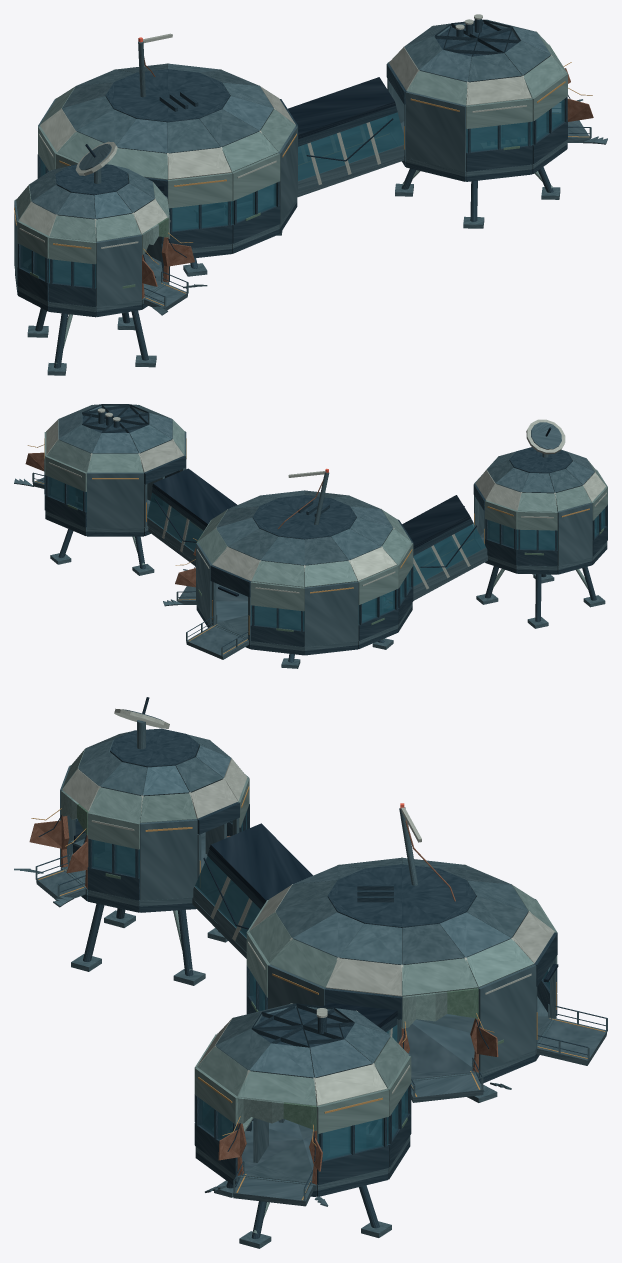
The model's file is Observatorio_Marea_Rota.fbx.
The picture shows the model from 3 angles, top to bottom: view 1: azimuth 30°, elevation 25°; view 2: azimuth 150°, elevation 25°; view 3: azimuth 270°, elevation 25°; orthographic projection. The views are drawn at different scales.
Visible parts, largest first — view 1: Núcleo.001, Laboratorio.001, Observatorio.001, Conector · Laboratorio.001, Observatorio · Exterior.001, Observatorio · Brecha.001, Laboratorio · Exterior.001, Núcleo · Exterior.001, Laboratorio · Brecha.001, Laboratorio · Habitaciones.001; view 2: Núcleo.001, Laboratorio.001, Observatorio.001, Conector · Observatorio.001, Conector · Laboratorio.001, Observatorio · Exterior.001, Núcleo · Exterior.001, Laboratorio · Exterior.001, Núcleo · Brecha.001, Laboratorio · Brecha.001, Laboratorio · Habitaciones.001; view 3: Núcleo.001, Laboratorio.001, Observatorio.001, Conector · Observatorio.001, Laboratorio · Brecha.001, Núcleo · Brecha.001, Observatorio · Brecha.001, Observatorio · Exterior.001, Laboratorio · Exterior.001, Núcleo · Exterior.001, Laboratorio · Habitaciones.001, Conector · Laboratorio.001 (+1 smaller).
Part boxes in pixels (box(x1,y1,x2,y2)): Núcleo.001: box(37, 63, 298, 258); Laboratorio.001: box(386, 19, 567, 181); Observatorio.001: box(14, 164, 170, 317); Conector · Laboratorio.001: box(288, 77, 404, 196); Observatorio · Exterior.001: box(27, 141, 156, 375); Observatorio · Brecha.001: box(141, 218, 207, 315); Laboratorio · Exterior.001: box(395, 14, 560, 228); Núcleo · Exterior.001: box(138, 33, 282, 276); Laboratorio · Brecha.001: box(550, 46, 607, 144); Laboratorio · Habitaciones.001: box(480, 119, 537, 148); Núcleo.001: box(186, 490, 413, 659); Laboratorio.001: box(44, 404, 186, 536); Observatorio.001: box(473, 447, 607, 574); Conector · Observatorio.001: box(402, 495, 487, 600); Conector · Laboratorio.001: box(147, 468, 236, 565); Observatorio · Exterior.001: box(476, 419, 605, 628); Núcleo · Exterior.001: box(278, 468, 393, 668); Laboratorio · Exterior.001: box(50, 408, 154, 575); Núcleo · Brecha.001: box(163, 520, 211, 606); Laboratorio · Brecha.001: box(14, 431, 56, 488); Laboratorio · Habitaciones.001: box(63, 476, 164, 507); Núcleo.001: box(246, 857, 607, 1083); Laboratorio.001: box(194, 1003, 411, 1196); Observatorio.001: box(60, 728, 249, 912); Conector · Observatorio.001: box(192, 823, 312, 958); Laboratorio · Brecha.001: box(205, 1097, 328, 1206); Núcleo · Brecha.001: box(398, 988, 511, 1102); Observatorio · Brecha.001: box(14, 790, 88, 907); Observatorio · Exterior.001: box(71, 697, 227, 985); Laboratorio · Exterior.001: box(214, 1008, 391, 1248); Núcleo · Exterior.001: box(357, 803, 497, 1102); Laboratorio · Habitaciones.001: box(226, 1117, 380, 1162); Conector · Laboratorio.001: box(324, 1002, 397, 1041).
Bounding box in the file's own units: 132 × 90.01 × 41.7.
2 materials, 2 textured.
